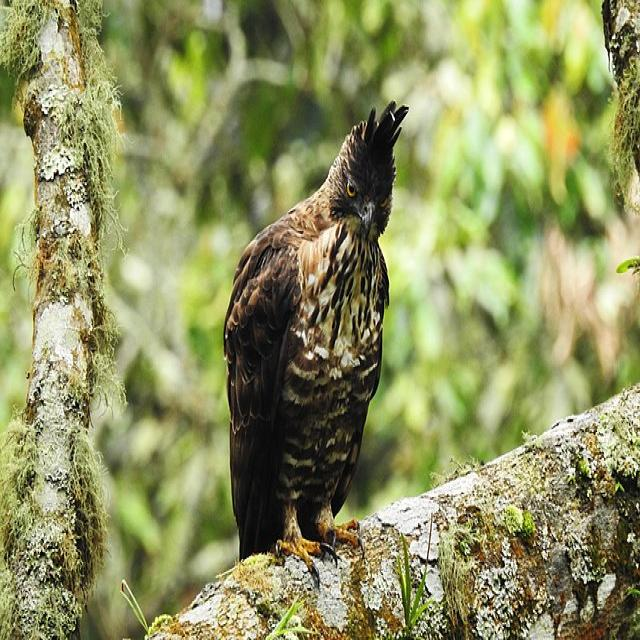Elang Jawa: (203, 72, 434, 600)
